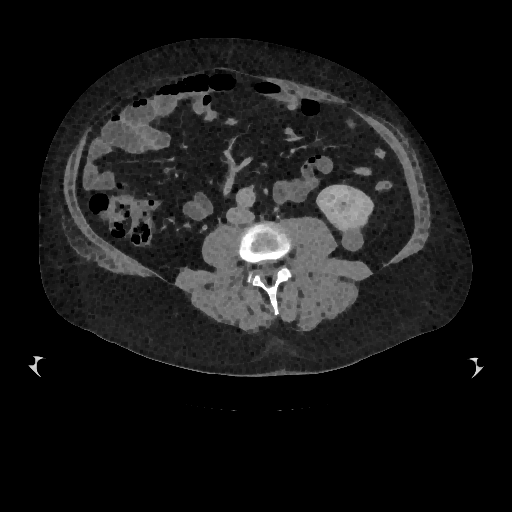Lesion: (337, 228, 369, 255)
